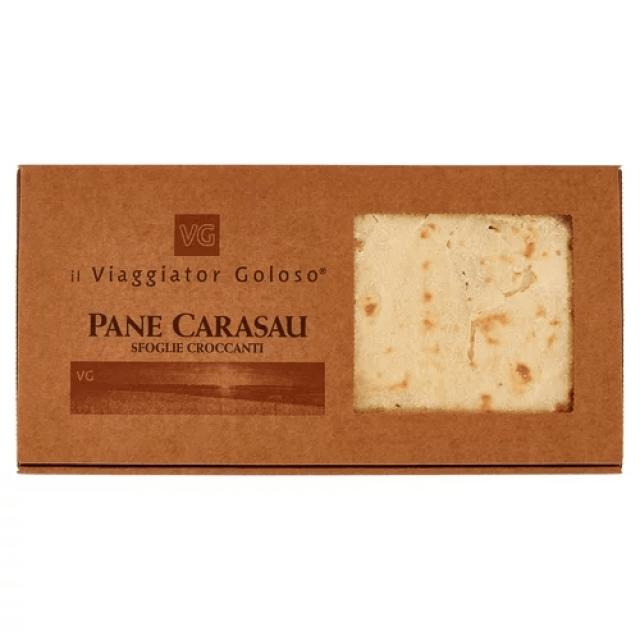bread: (15, 165, 623, 475)
